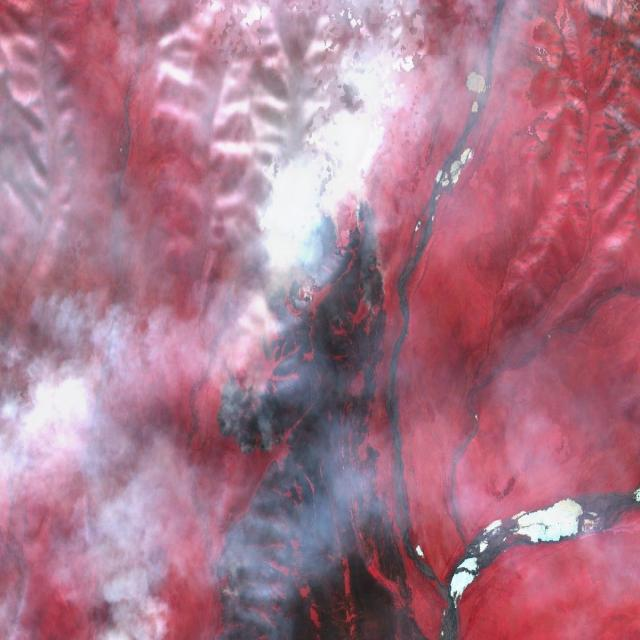fire: (215, 187, 390, 461), (216, 585, 244, 620)
